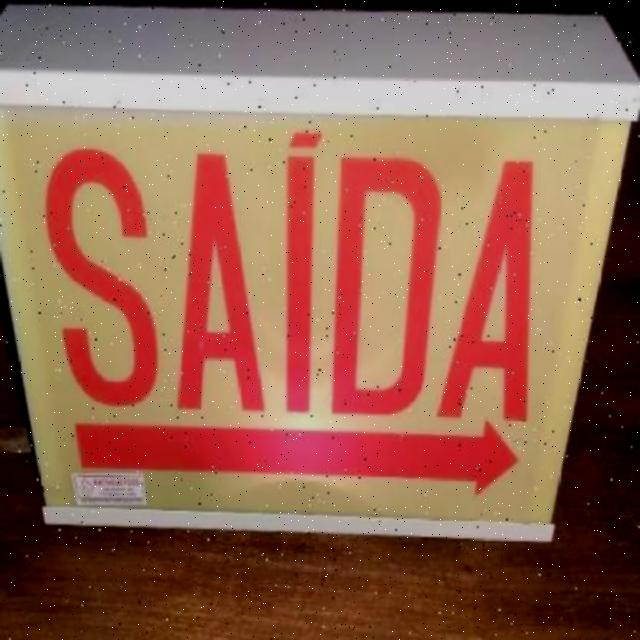emergency_exit: (1, 11, 638, 545), (1, 97, 635, 541)
